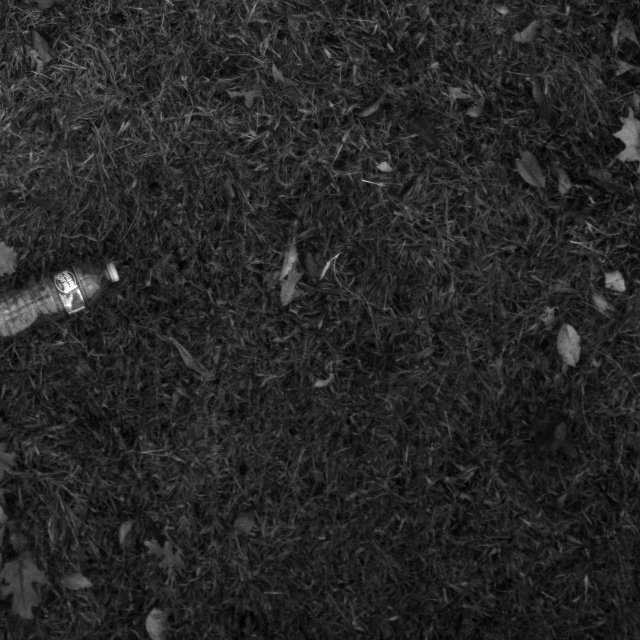bottle: (0, 257, 123, 344)
